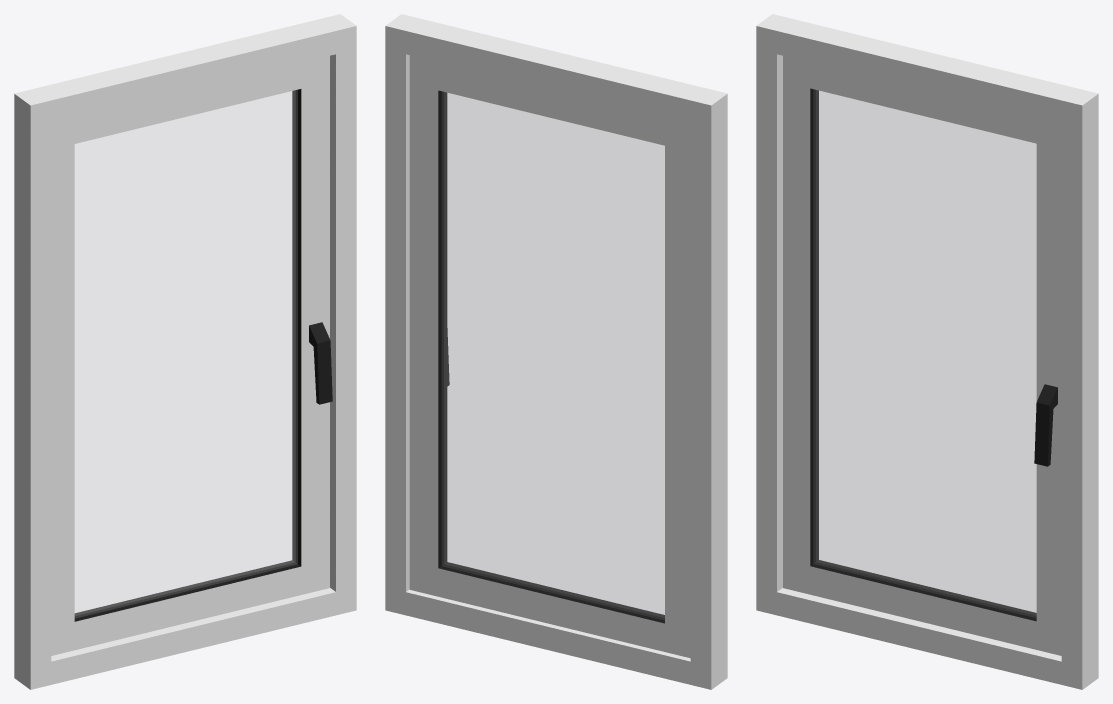
File: Window.fbx
The picture shows the model from 3 angles, left to right: view 1: azimuth 30°, elevation 25°; view 2: azimuth 150°, elevation 25°; view 3: azimuth 330°, elevation 25°; orthographic projection.
Parts seen in each view (by area): view 1: window, window frame; view 2: window, window frame; view 3: window, window frame.
Part boxes in pixels (x1,y1,x2,y2): window: (51,56,332,655); window frame: (14,14,356,689); window: (409,55,690,658); window frame: (385,14,727,689); window: (783,56,1061,655); window frame: (756,14,1098,689).
Bounding box in the file's own units: 73.2 × 125 × 8.41.
2 materials, 1 textured.
